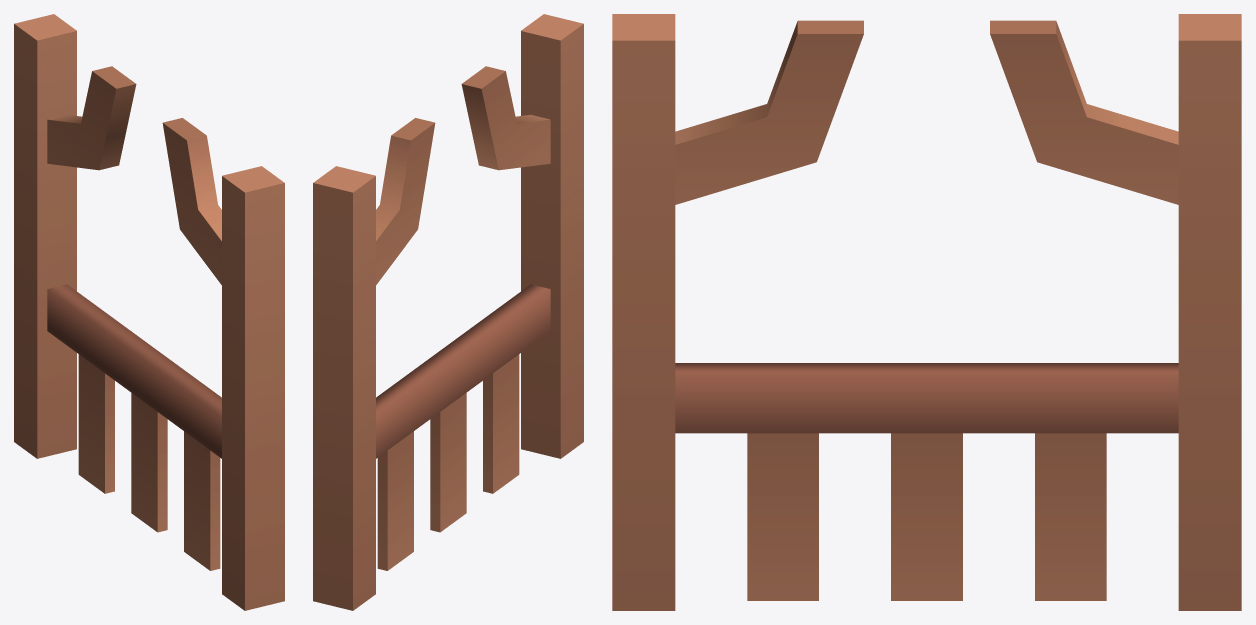
Rendered from balcony-wall-fence.glb.
The picture shows the model from 3 angles, left to right: view 1: azimuth 30°, elevation 25°; view 2: azimuth 150°, elevation 25°; view 3: azimuth 270°, elevation 25°; orthographic projection. The views are drawn at different scales.
Parts seen in each view (by area): view 1: balcony-wall-fence; view 2: balcony-wall-fence; view 3: balcony-wall-fence.
Boxes of the visible parts, box(x1,y1,x2,y2) form: balcony-wall-fence: box(14, 14, 284, 610); balcony-wall-fence: box(313, 14, 583, 610); balcony-wall-fence: box(612, 14, 1241, 610).
Size of the model in its own units: 0.1 by 1 by 1.
1 material, 1 textured.
